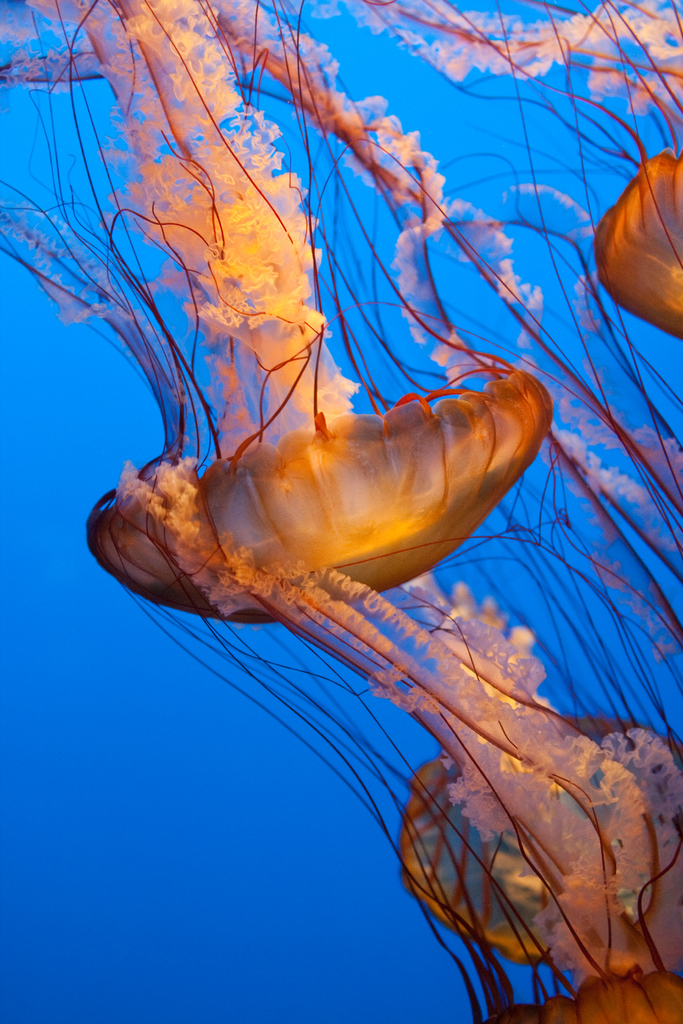Jellyfish: (8, 0, 677, 1024)
